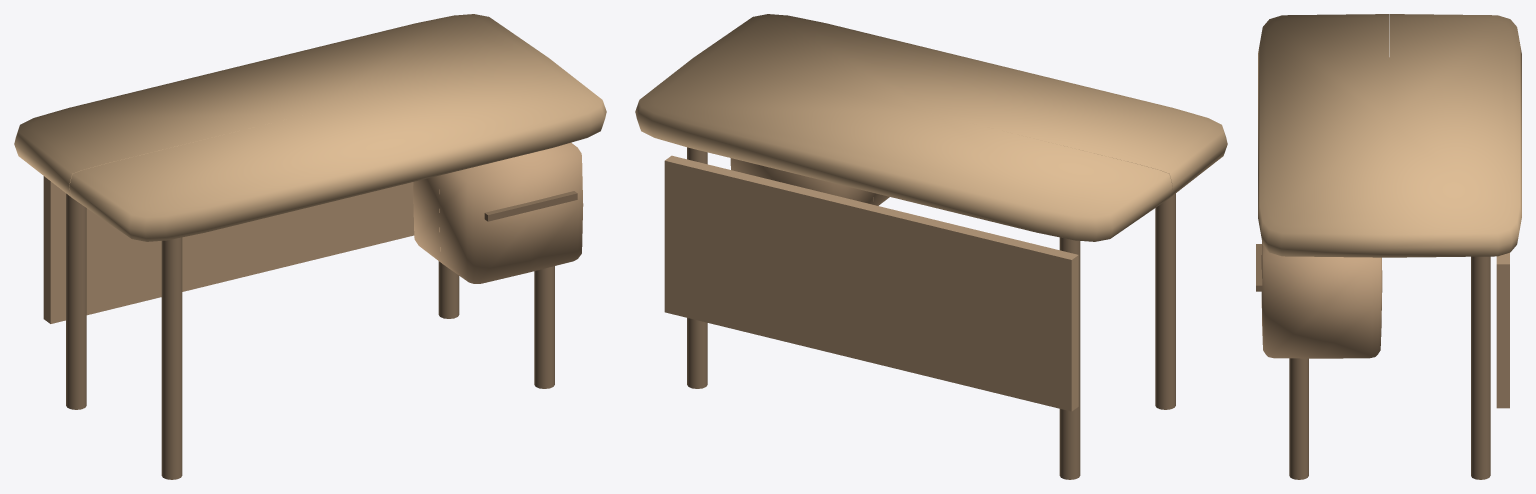
The model's file is desk_1400x700.glb.
The picture shows the model from 3 angles, left to right: view 1: azimuth 30°, elevation 25°; view 2: azimuth 150°, elevation 25°; view 3: azimuth 270°, elevation 25°; orthographic projection. The views are drawn at different scales.
Parts seen in each view (by area): view 1: desk_top, rear_modesty_panel, drawer_box, round_desk_leg (×4), drawer_gap; view 2: desk_top, rear_modesty_panel, round_desk_leg (×3), drawer_box; view 3: desk_top, drawer_box, round_desk_leg (×2), rear_modesty_panel, drawer_gap.
Part boxes in pixels (bbox=[...]): desk_top: bbox=[14, 14, 606, 241]; rear_modesty_panel: bbox=[43, 176, 414, 323]; drawer_box: bbox=[413, 142, 583, 283]; round_desk_leg (×4): bbox=[66, 193, 554, 479]; drawer_gap: bbox=[484, 191, 577, 221]; desk_top: bbox=[635, 14, 1227, 241]; rear_modesty_panel: bbox=[664, 155, 1078, 411]; round_desk_leg (×3): bbox=[687, 147, 1175, 479]; drawer_box: bbox=[730, 158, 889, 205]; desk_top: bbox=[1258, 14, 1521, 257]; drawer_box: bbox=[1261, 241, 1382, 358]; round_desk_leg (×2): bbox=[1289, 256, 1490, 479]; rear_modesty_panel: bbox=[1496, 252, 1509, 408]; drawer_gap: bbox=[1256, 244, 1262, 291].
Bounding box in the file's own units: 1.4 × 0.78 × 0.703.
